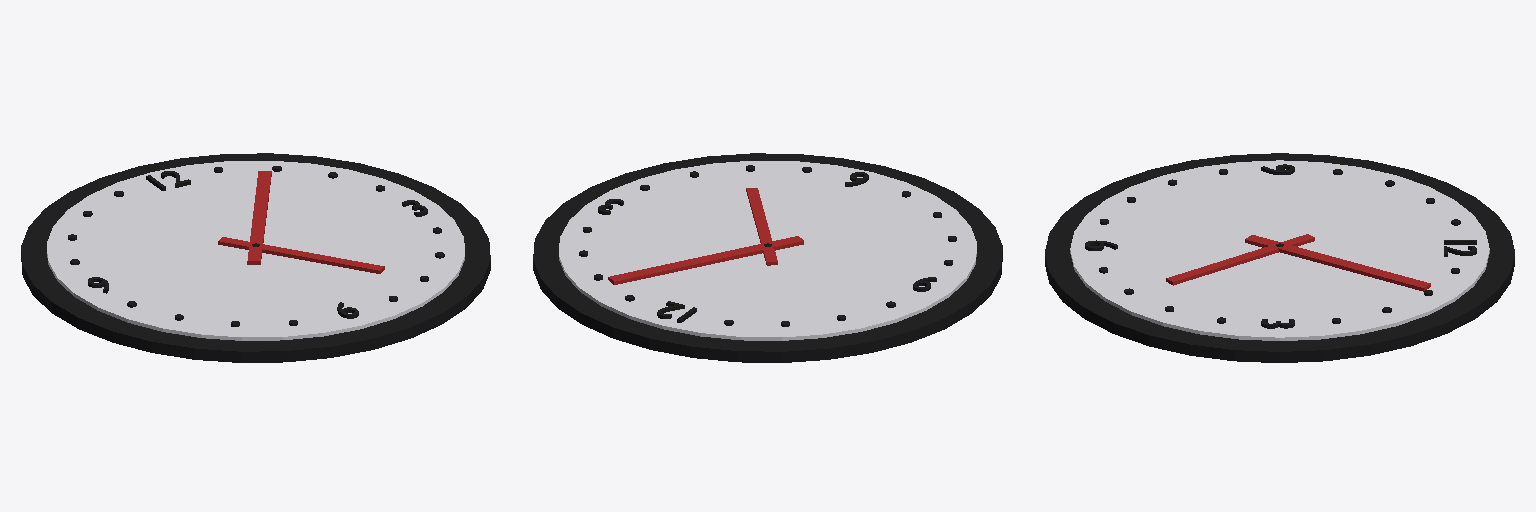
Rendered from clock.obj.
3 renders of one model, left to right at view 1: azimuth 30°, elevation 25°; view 2: azimuth 150°, elevation 25°; view 3: azimuth 270°, elevation 25°, orthographic.
Visible parts, largest first — view 1: smoked_glasBoard_smoked_glas, BlackPlate_Black.001, Cube.001, Cube, Circle_Black; view 2: smoked_glasBoard_smoked_glas, BlackPlate_Black.001, Cube, Cube.001, Circle_Black; view 3: smoked_glasBoard_smoked_glas, BlackPlate_Black.001, Cube, Cube.001, Circle_Black.
Boxes of the visible parts, <box> form: smoked_glasBoard_smoked_glas: <box>47,161,464,340</box>; BlackPlate_Black.001: <box>21,153,490,362</box>; Cube.001: <box>218,237,384,273</box>; Cube: <box>247,171,271,264</box>; Circle_Black: <box>68,166,444,326</box>; smoked_glasBoard_smoked_glas: <box>559,161,976,340</box>; BlackPlate_Black.001: <box>533,153,1002,362</box>; Cube: <box>608,236,803,284</box>; Cube.001: <box>746,188,777,265</box>; Circle_Black: <box>579,165,956,326</box>; smoked_glasBoard_smoked_glas: <box>1070,160,1489,340</box>; BlackPlate_Black.001: <box>1045,153,1514,362</box>; Cube: <box>1245,235,1430,291</box>; Cube.001: <box>1166,234,1314,285</box>; Circle_Black: <box>1099,169,1460,323</box>.
Size of the model in its own units: 33.45 by 1.9 by 33.45.